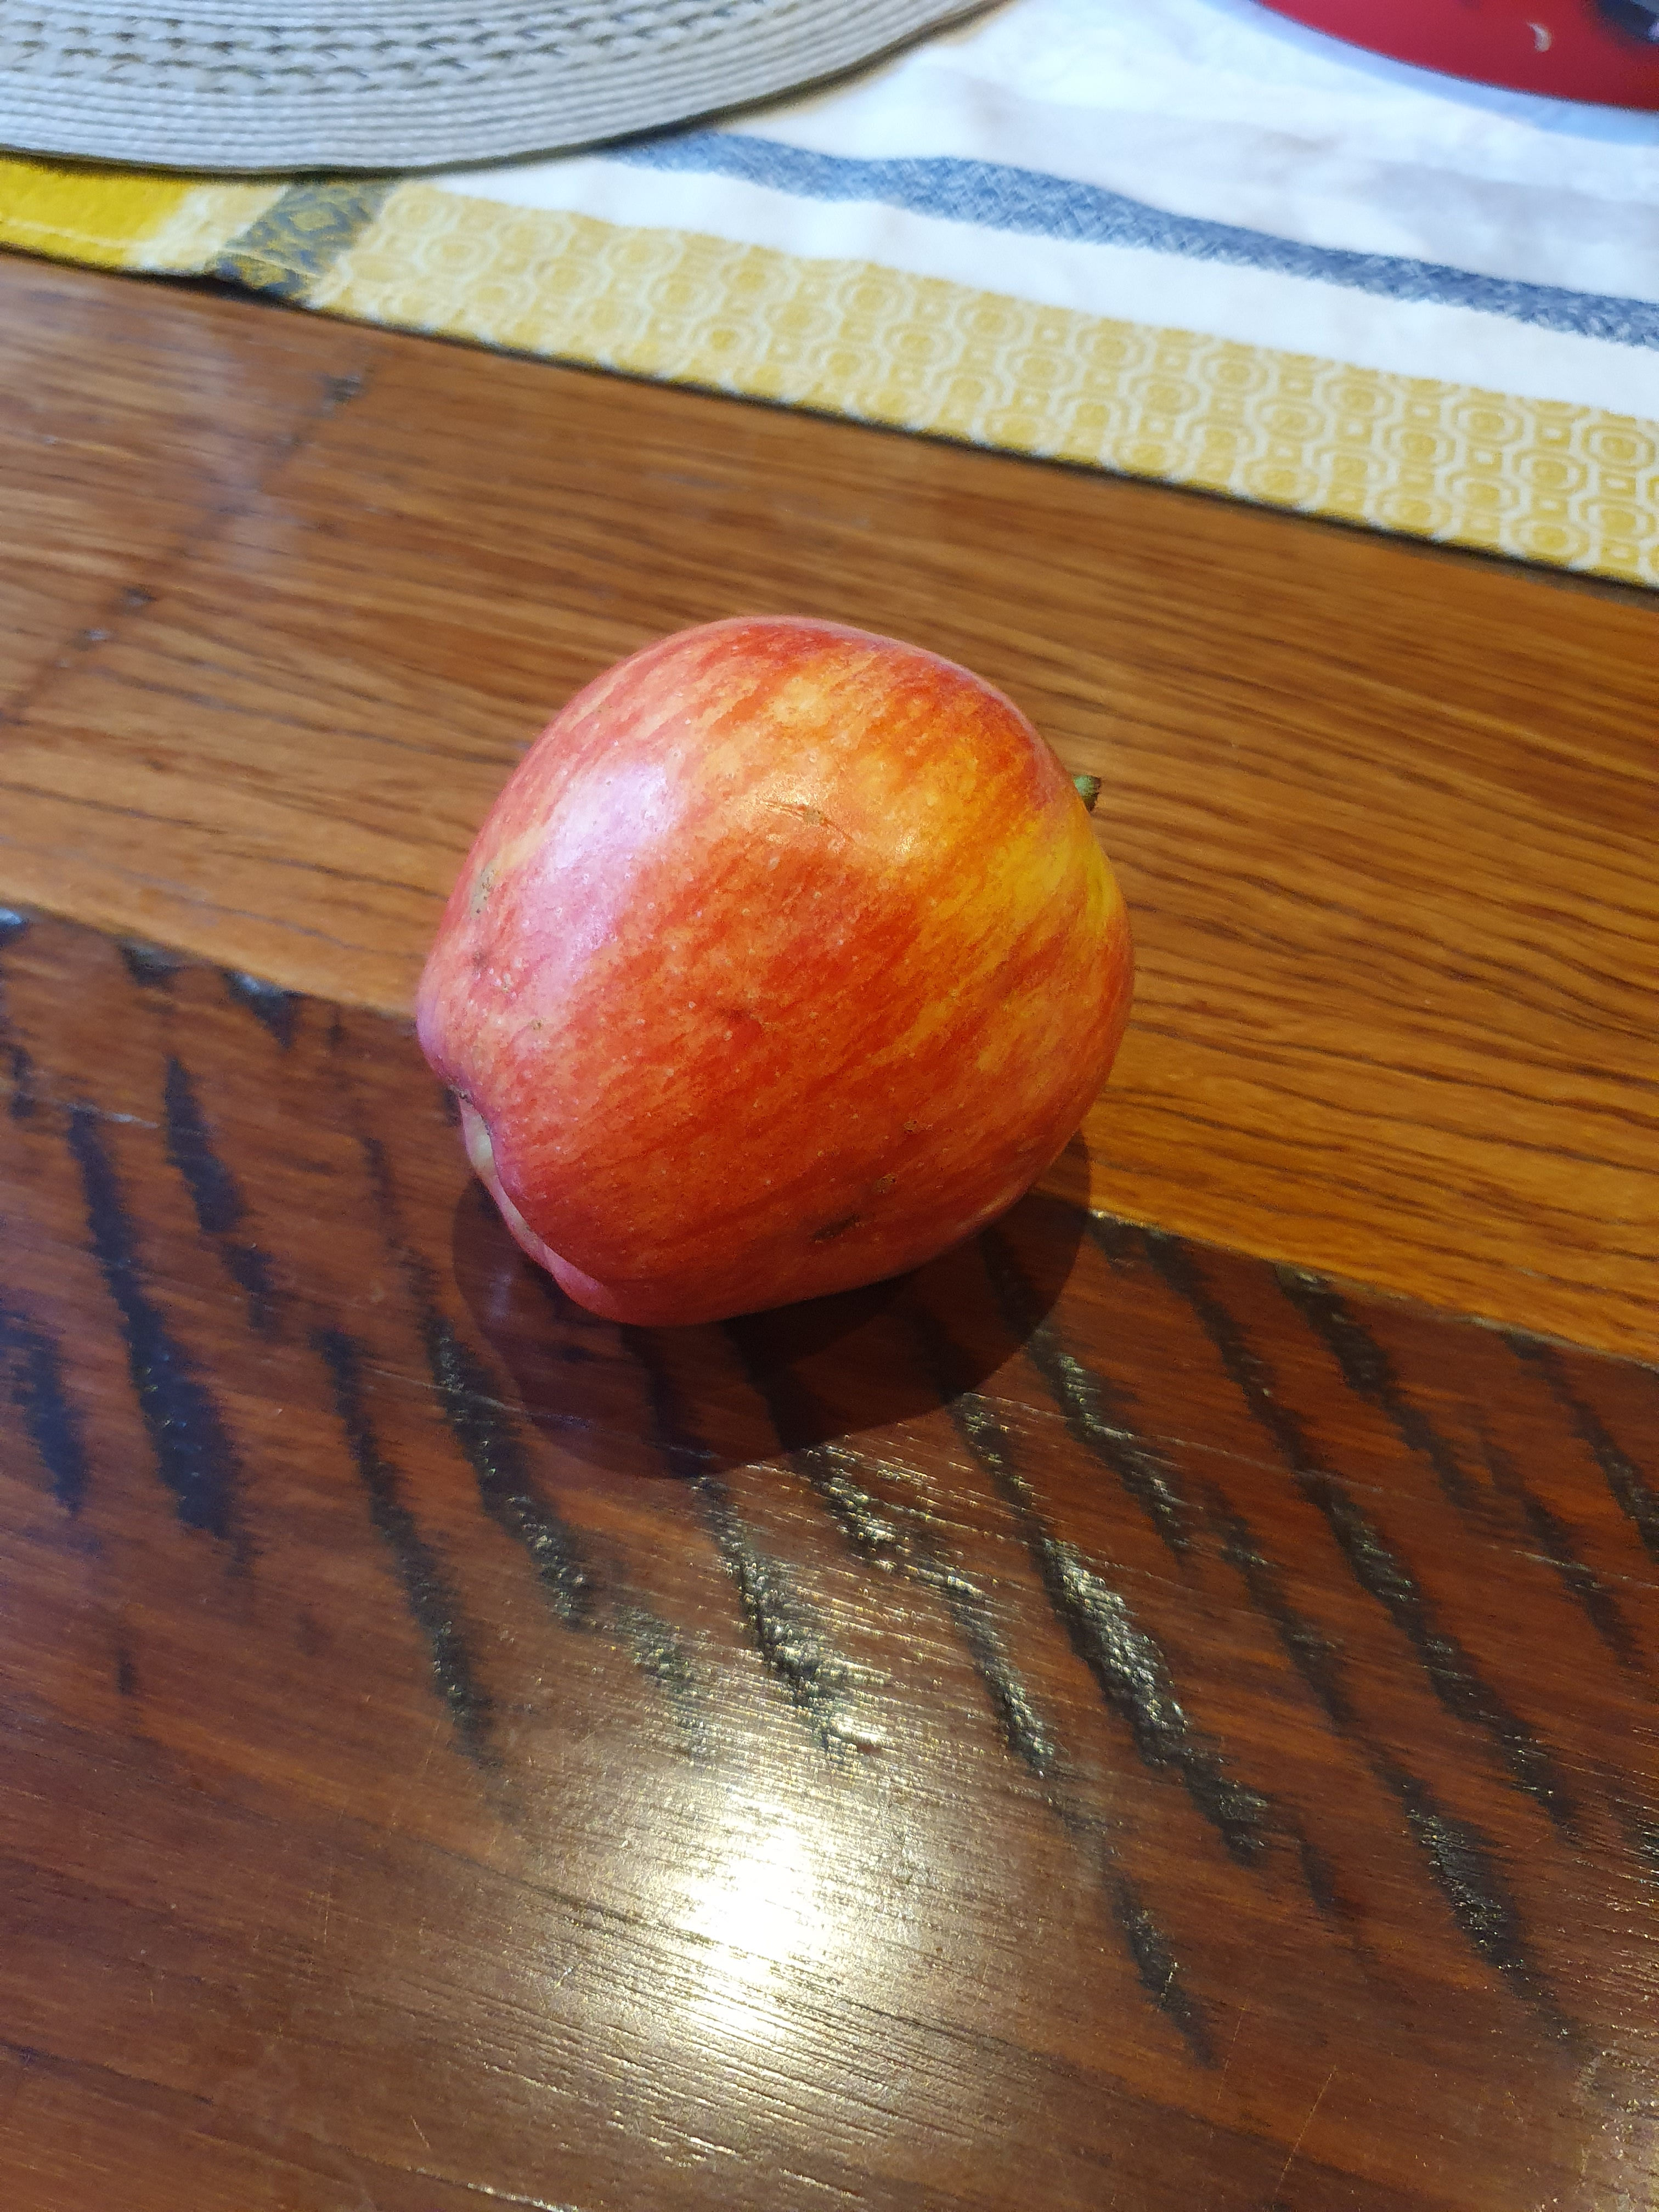red_apple: (396, 583, 1154, 1345)
